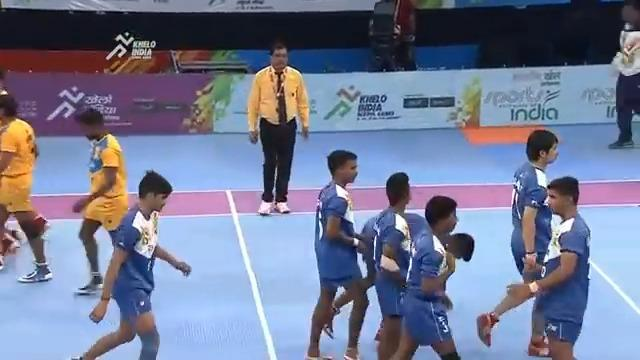Player: (70, 169, 191, 359), (476, 175, 591, 358), (386, 194, 474, 359), (304, 149, 372, 358), (508, 128, 560, 356), (71, 107, 129, 295), (0, 90, 53, 283), (607, 0, 639, 149)
referee: (246, 40, 310, 215)
